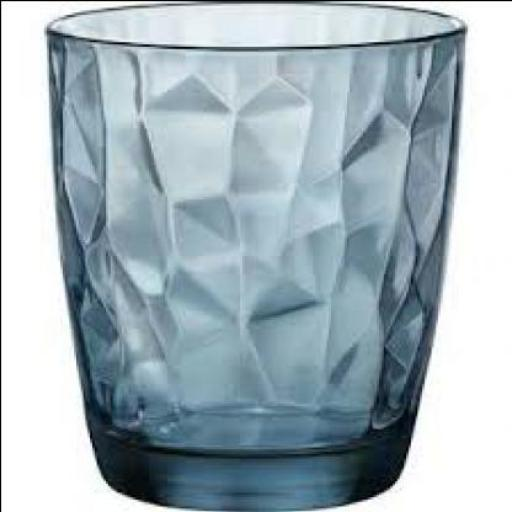glass: (47, 1, 471, 510)
